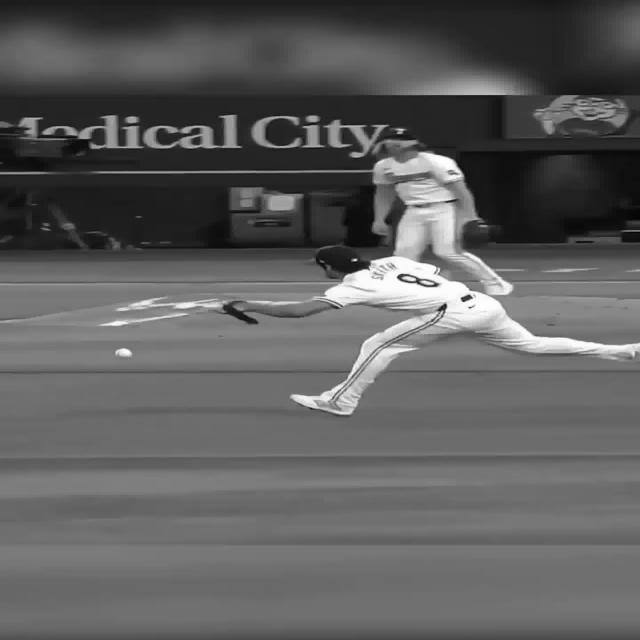baseball: (114, 348, 132, 358)
shoe: (288, 394, 354, 416), (221, 300, 258, 324), (484, 280, 514, 296)
